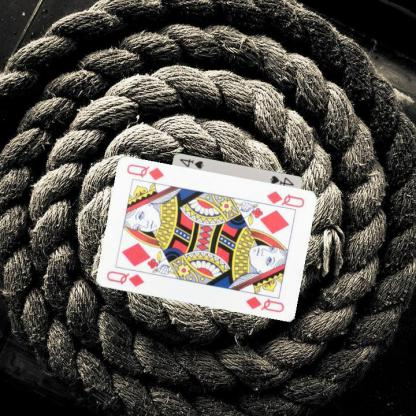4s: (267, 174, 295, 188)
Qd: (260, 188, 306, 212), (103, 269, 145, 288)
